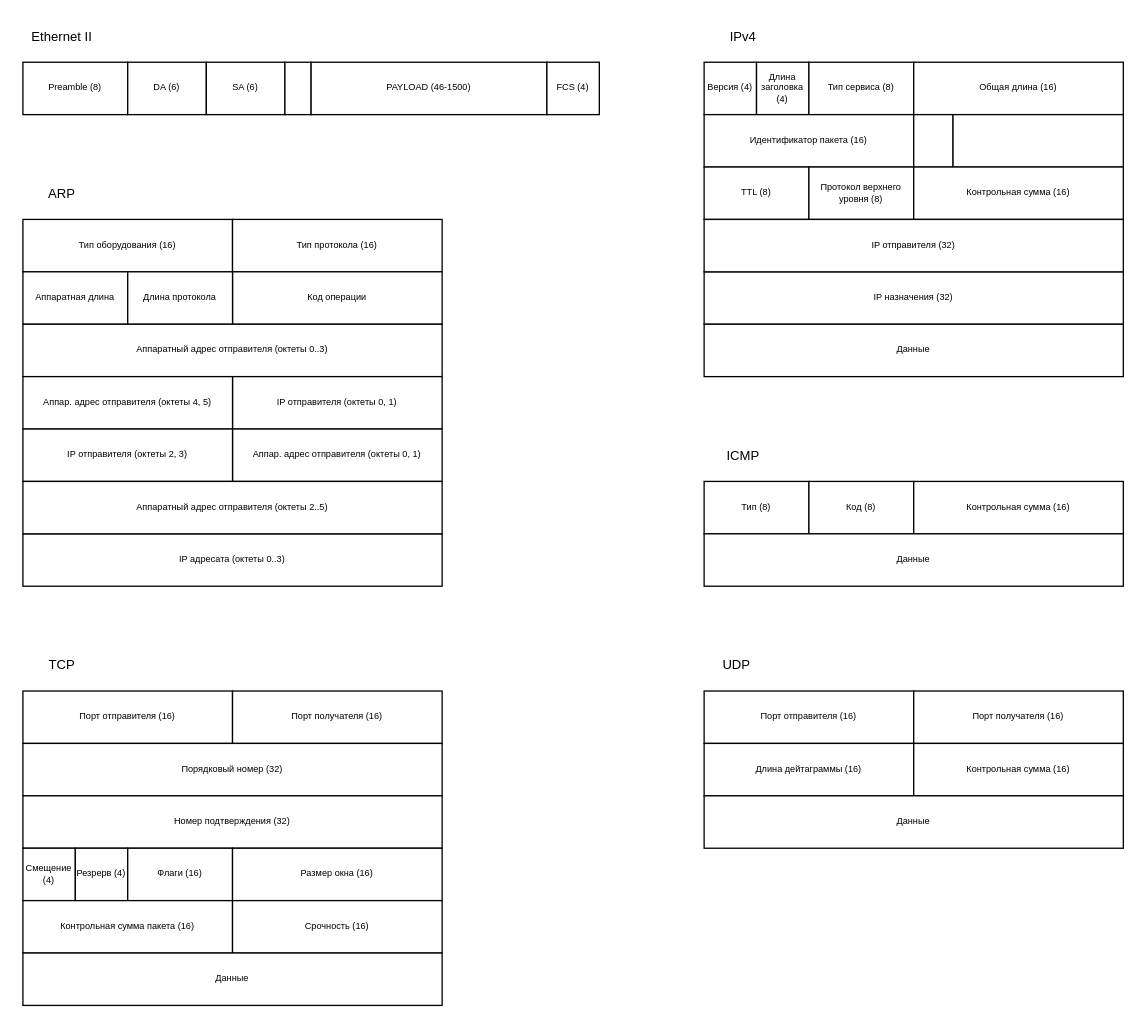
This 1146x1028 diagram has some shape labels left out. The shapes that lost their labels are listed below. From the top down, each one's centre as x and y in pixels, then its label:
At point (297, 88): "E-Type (2)".
At point (932, 140): "Флаги (3)".
At point (1037, 140): "Смещение фрагмента (13)".
